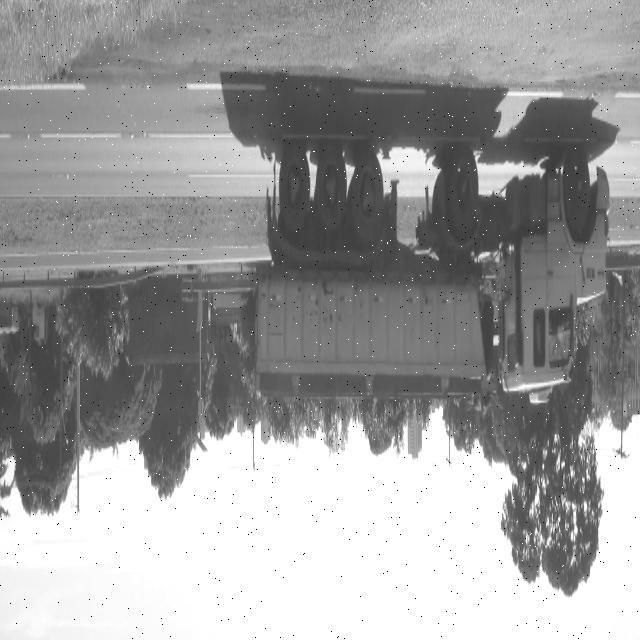-axle: (446, 153, 482, 244), (278, 143, 312, 238), (351, 152, 386, 241), (314, 144, 346, 232), (566, 144, 594, 226)
